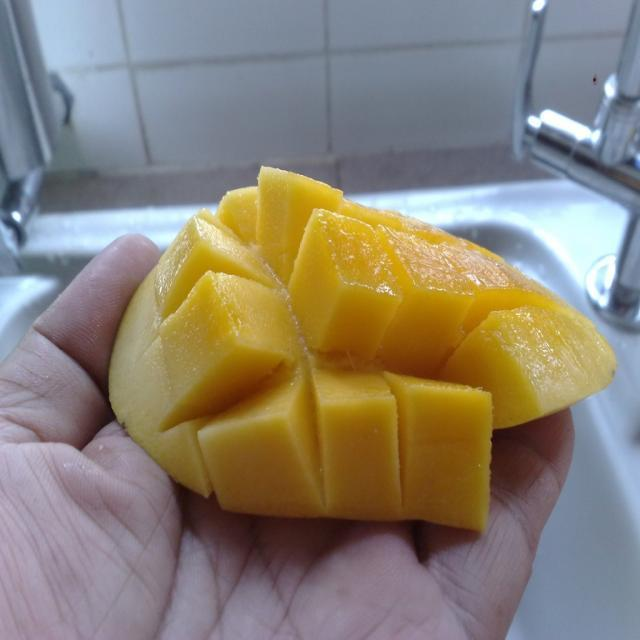Mango: (105, 166, 617, 532)
